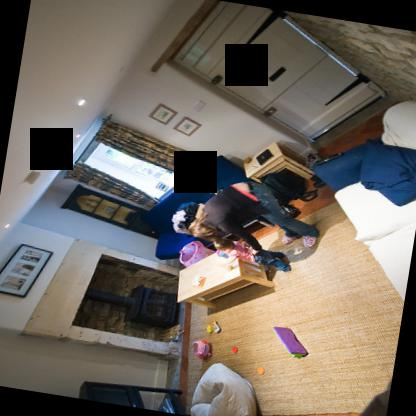backpack: (261, 171, 318, 200)
